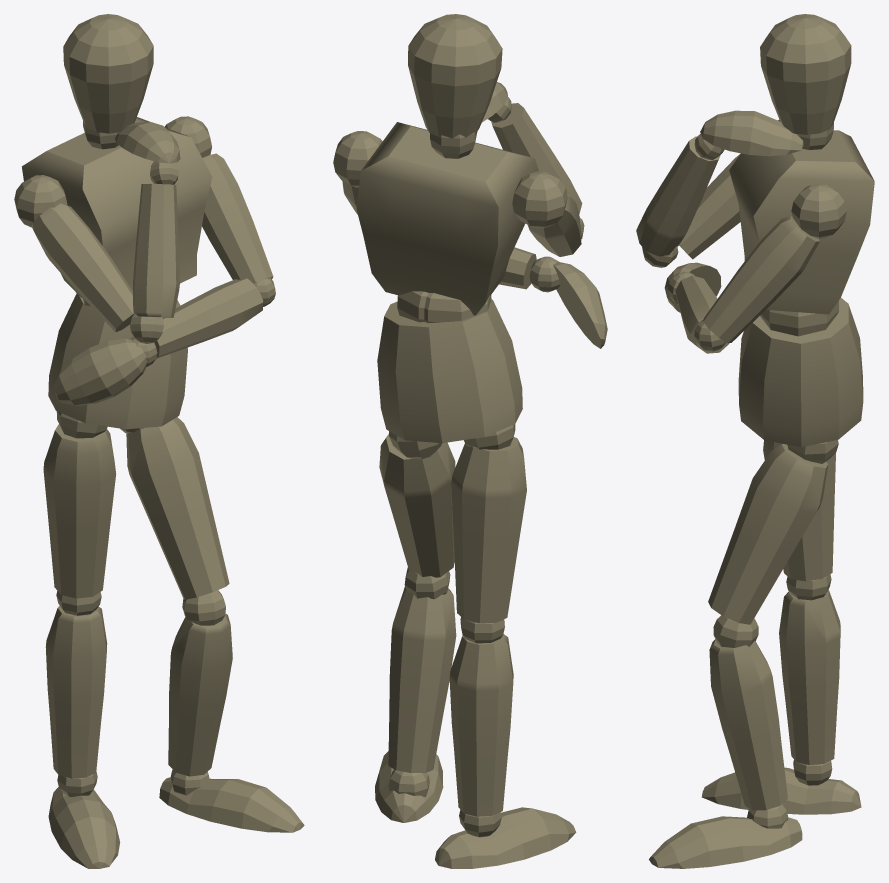
The model's file is Mannequin_Pose_1.fbx.
3 views of the same model, side by side, from view 1: azimuth 30°, elevation 25°; view 2: azimuth 150°, elevation 25°; view 3: azimuth 270°, elevation 25° (orthographic). The views are drawn at different scales.
Parts seen in each view (by area): view 1: Mannequin_Pose_1; view 2: Mannequin_Pose_1; view 3: Mannequin_Pose_1.
Boxes of the visible parts, x1=… form: Mannequin_Pose_1: x1=14, y1=14, x2=304, y2=868; Mannequin_Pose_1: x1=333, y1=14, x2=607, y2=868; Mannequin_Pose_1: x1=636, y1=14, x2=874, y2=868.
Bounding box in the file's own units: 3.47 × 11.89 × 3.2.
